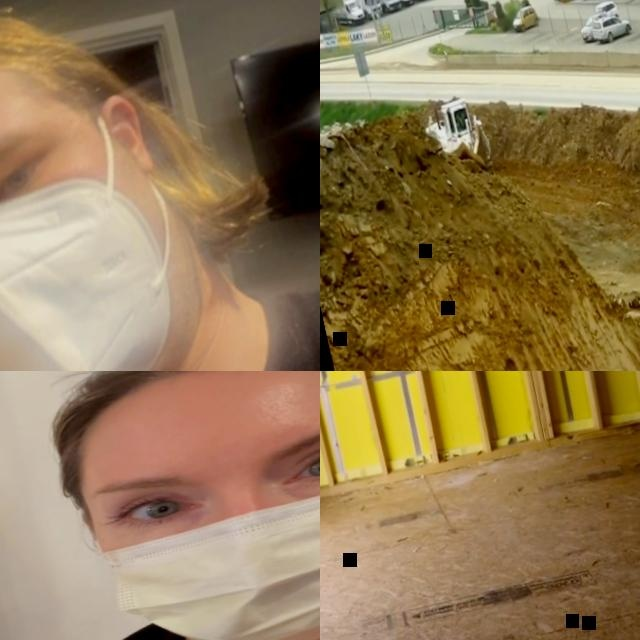Mask: (73, 420, 320, 640), (0, 155, 210, 371)
NO-Hardhat: (35, 371, 320, 458), (0, 0, 86, 183)
NO-Safety Vest: (0, 263, 320, 371), (0, 581, 320, 640)
Person: (0, 0, 320, 371), (0, 371, 320, 640)
machinery: (418, 90, 497, 187)
vehicle: (589, 12, 633, 46), (329, 0, 366, 30), (578, 12, 612, 44), (338, 0, 383, 24), (509, 5, 540, 33), (356, 0, 402, 18), (591, 0, 620, 23), (390, 0, 414, 7)
